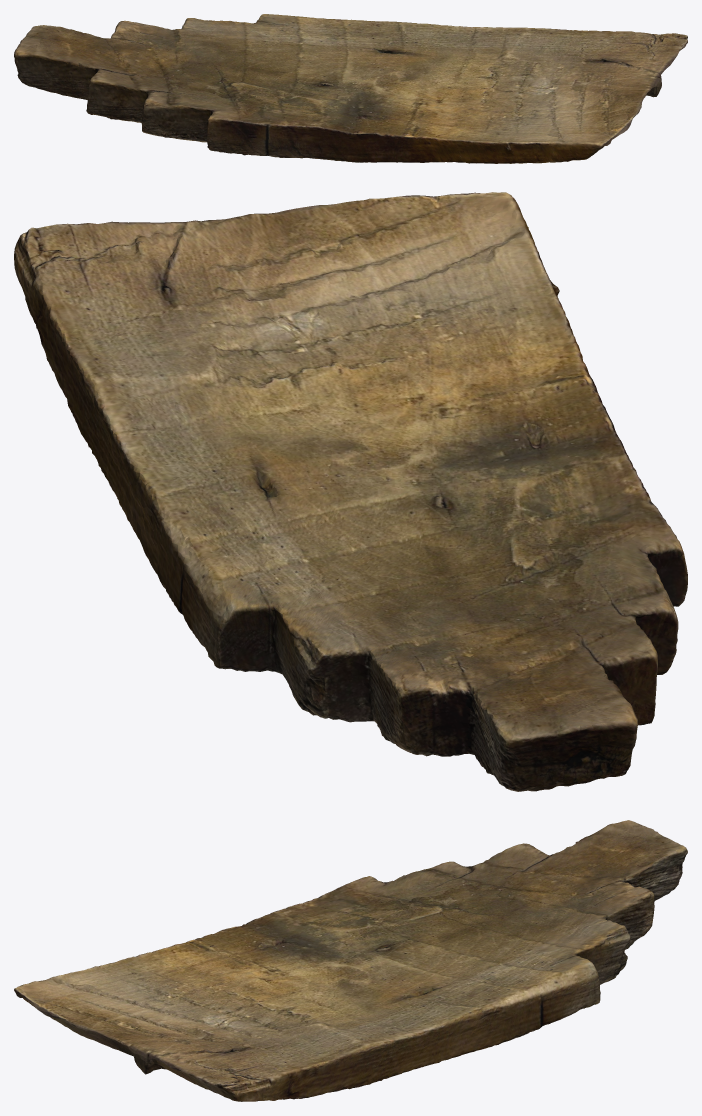
File: ЛМХ.2026.001.glb
3 views of the same model, one above another, from view 1: azimuth 30°, elevation 25°; view 2: azimuth 150°, elevation 25°; view 3: azimuth 270°, elevation 25° (orthographic). The views are drawn at different scales.
Visible parts, largest first — view 1: world; view 2: world; view 3: world.
Part boxes in pixels (box(x1,y1,x2,y2)): world: box(14, 14, 687, 163); world: box(14, 192, 687, 791); world: box(14, 820, 687, 1101).
Size of the model in its own units: 0.3542 by 0.046 by 0.3466.
1 material, 1 textured.
